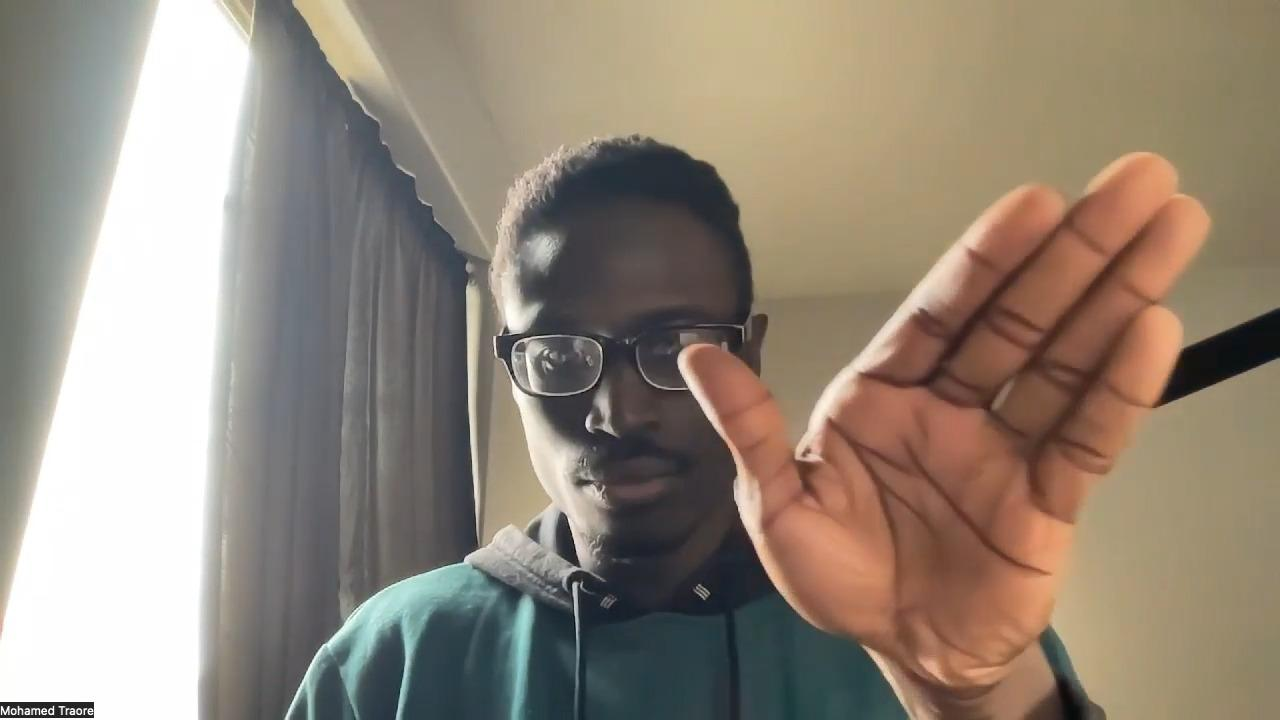Paper: (677, 145, 1211, 681)
